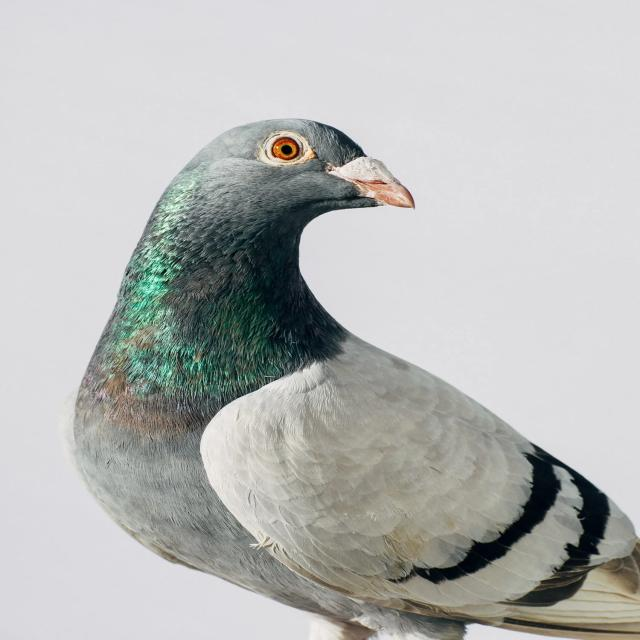Pigeon: (64, 115, 640, 640)
